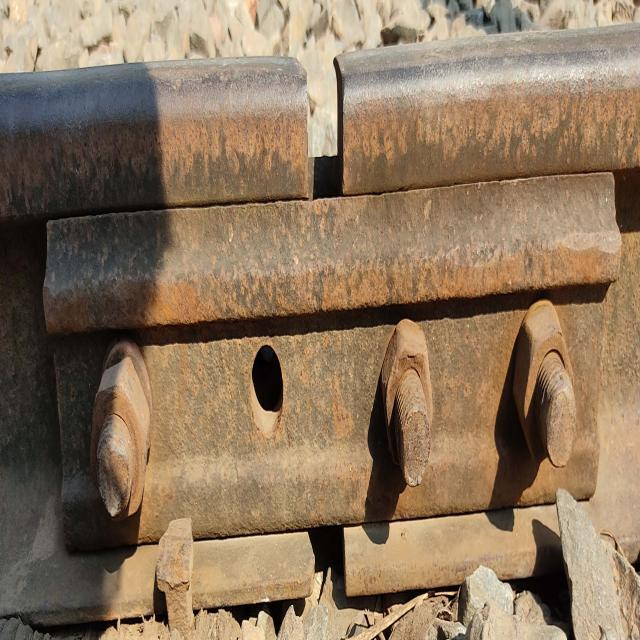railway_join_bar_defects_medium: (247, 60, 349, 513)
